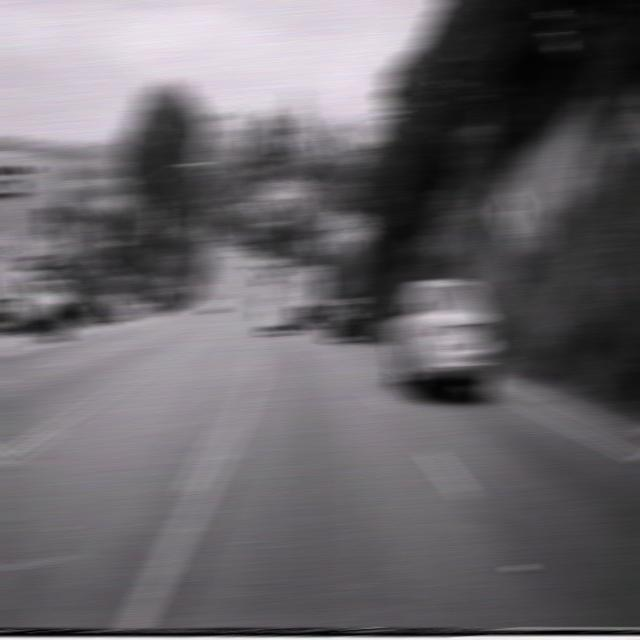pedestrianCrossing: (491, 182, 532, 242)
